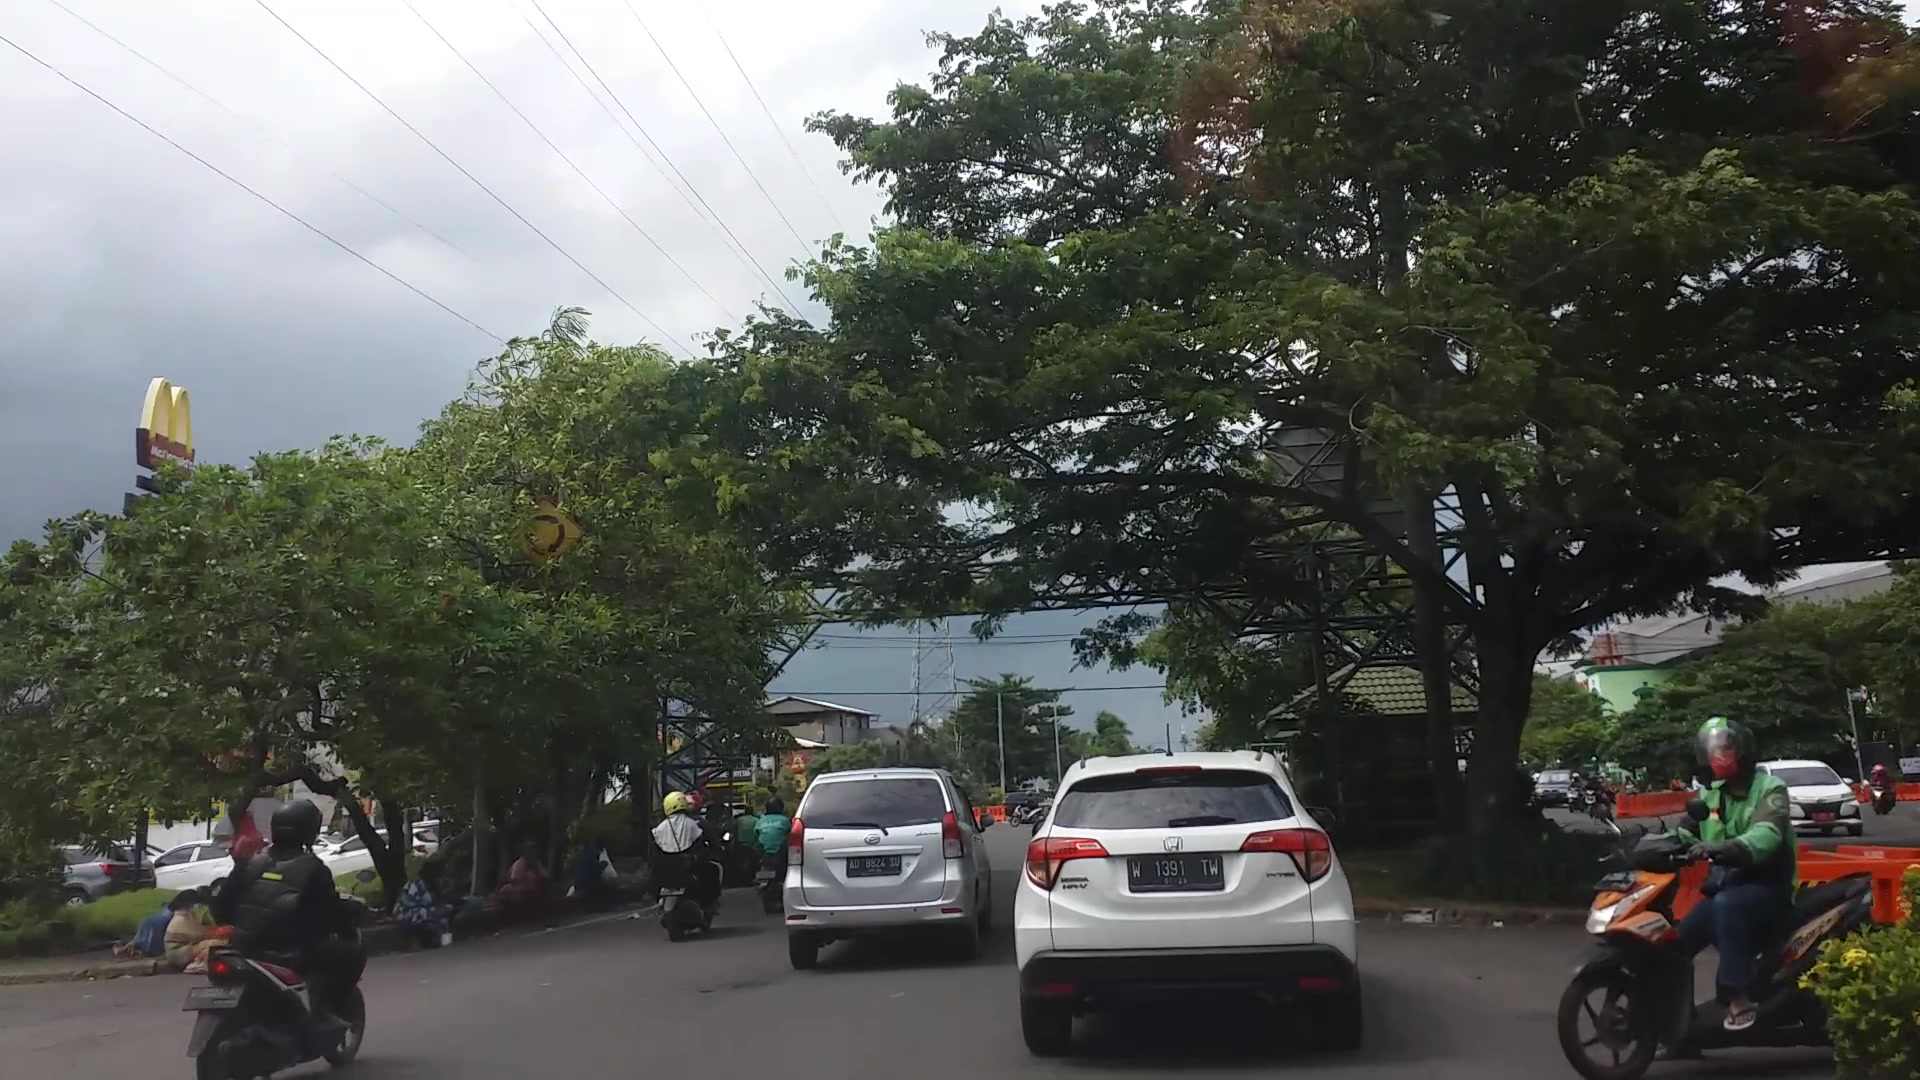plate_positive: (1127, 855, 1222, 891), (847, 857, 902, 876)
